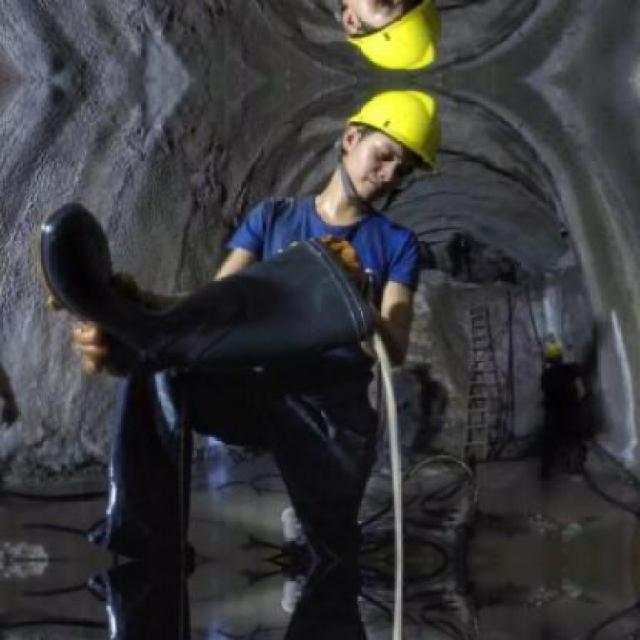helmet: (328, 84, 454, 204), (328, 0, 455, 77)
